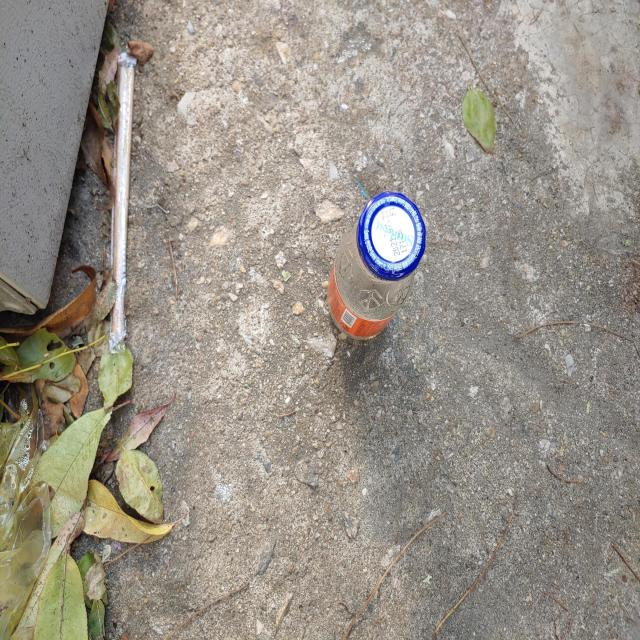glass: (328, 191, 426, 339)
